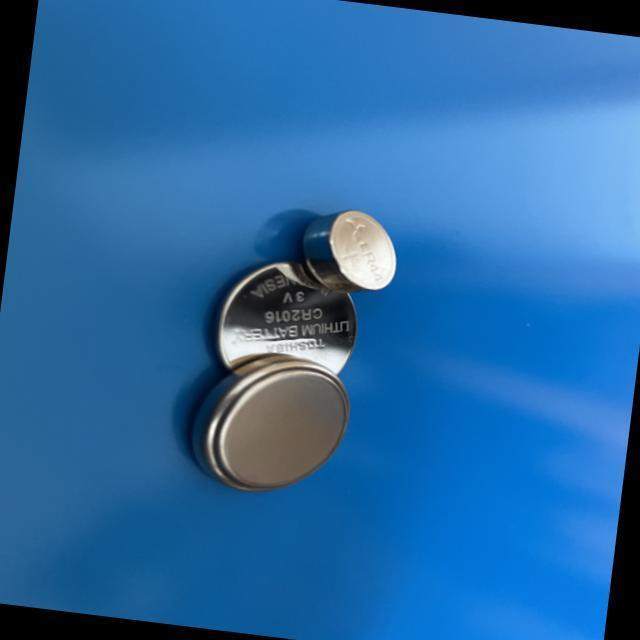COIN: (180, 342, 358, 502), (202, 251, 366, 392), (292, 201, 406, 301)
